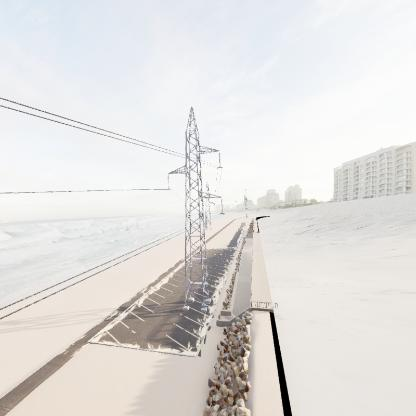tower: (162, 106, 227, 314)
